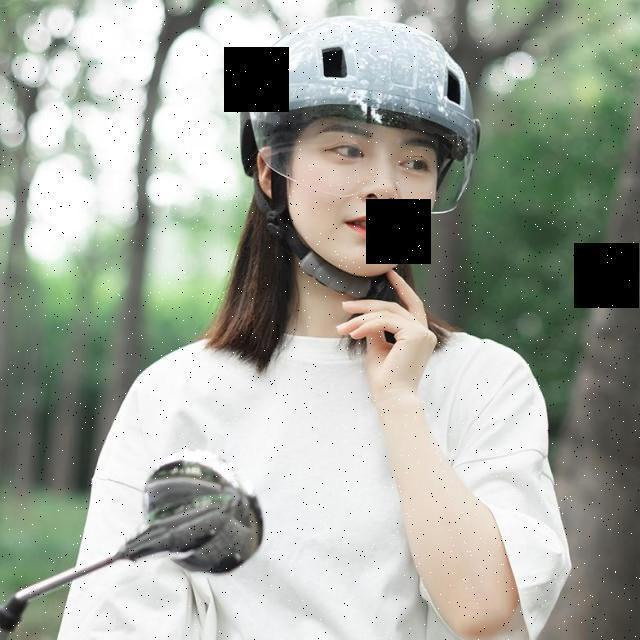helmet: (238, 12, 476, 298)
